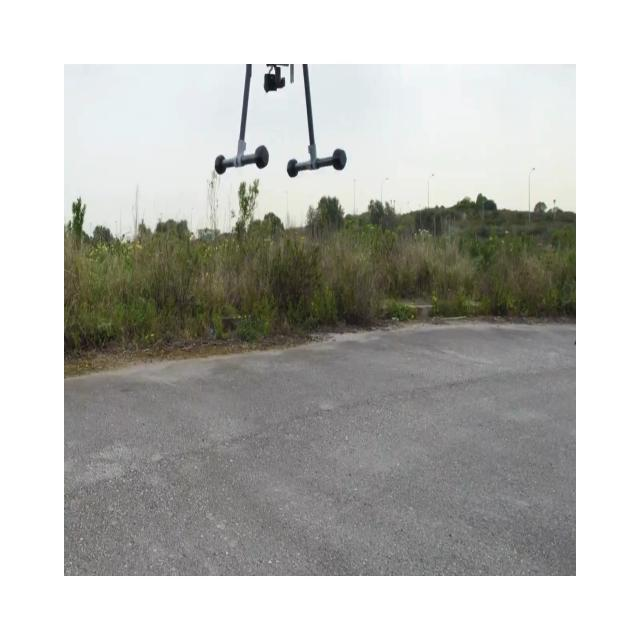drone: (214, 62, 347, 178)
